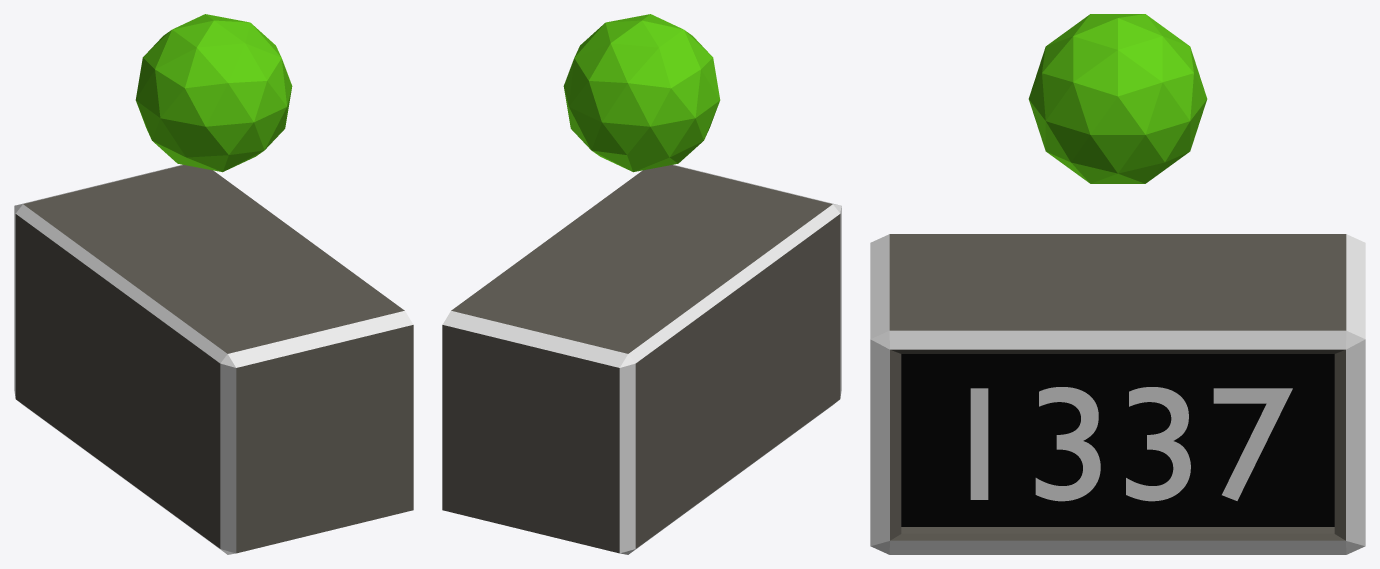
The model's file is Checkpoint.fbx.
3 views of the same model, side by side, from view 1: azimuth 30°, elevation 25°; view 2: azimuth 150°, elevation 25°; view 3: azimuth 270°, elevation 25° (orthographic). The views are drawn at different scales.
Visible parts, largest first — view 1: Checkpoint_Platform, Checkpoint_Ball; view 2: Checkpoint_Platform, Checkpoint_Ball; view 3: Checkpoint_Platform, Checkpoint_Ball, Checkpoint_SampleText.
Part boxes in pixels (<box>): Checkpoint_Platform: <box>14,164,413,554</box>; Checkpoint_Ball: <box>135,14,292,172</box>; Checkpoint_Platform: <box>442,164,841,554</box>; Checkpoint_Ball: <box>563,14,720,172</box>; Checkpoint_Platform: <box>870,234,1365,554</box>; Checkpoint_Ball: <box>1028,14,1207,183</box>; Checkpoint_SampleText: <box>970,387,1292,501</box>.
Size of the model in its own units: 197 by 436 by 400.
